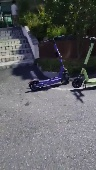beam: (27, 36, 72, 94)
gcooter: (72, 35, 96, 90)
